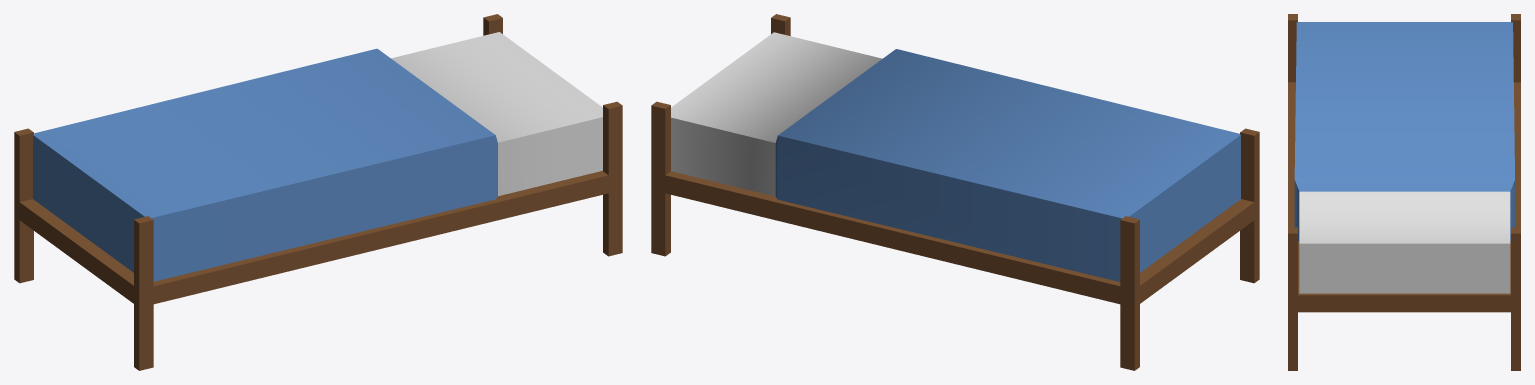
Rendered from SM_Bed02.FBX.
3 views of the same model, side by side, from view 1: azimuth 30°, elevation 25°; view 2: azimuth 150°, elevation 25°; view 3: azimuth 270°, elevation 25° (orthographic). The views are drawn at different scales.
Parts seen in each view (by area): view 1: bed; view 2: bed; view 3: bed.
Boxes of the visible parts, x1,y1,x2,y2 form: bed: [14, 14, 622, 370]; bed: [651, 14, 1259, 370]; bed: [1288, 14, 1520, 370].
Size of the model in its own units: 140 by 40.81 by 62.74.
